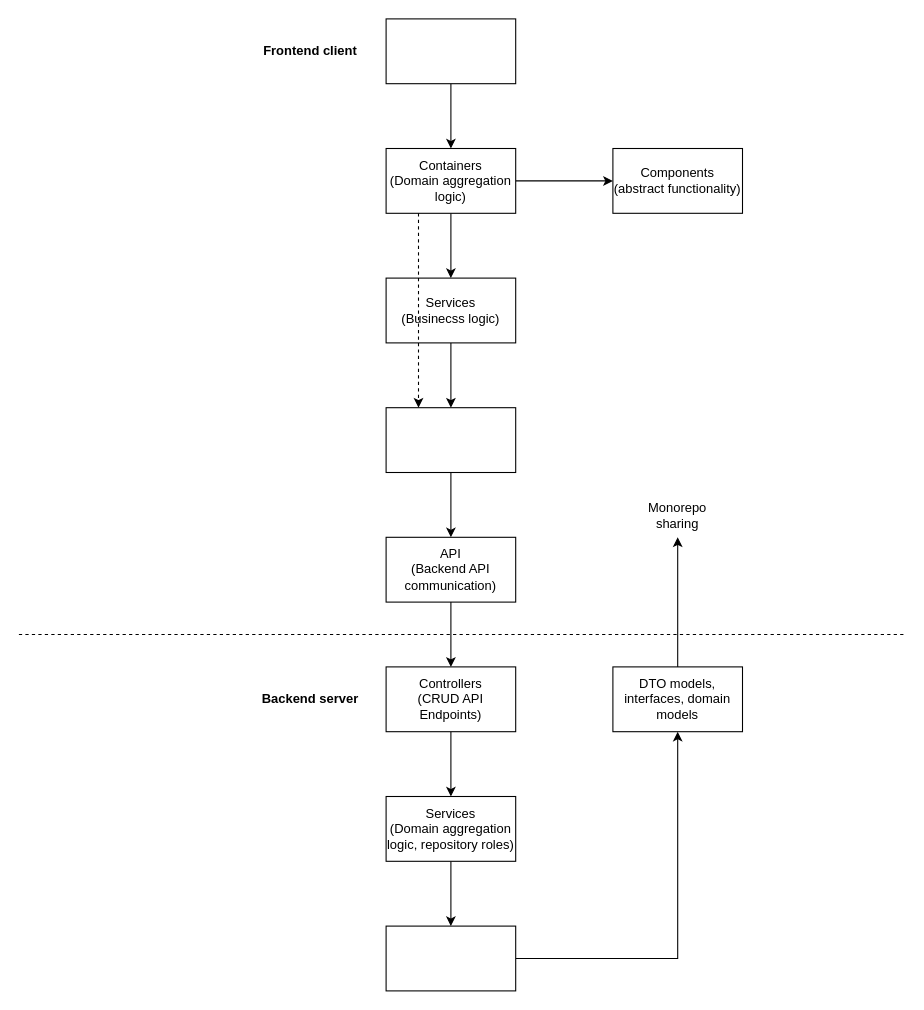
Image size: 924x1010. Some labels were removed from this diagram. Here are the shapes that lost their labels. From the top down, the centre of each, then its label:
At point (450, 51): "Pages (Routing and meta)".
At point (450, 440): "Store (Repository layer, API middleware)".
At point (450, 958): "Domain (Rules and Models)".
